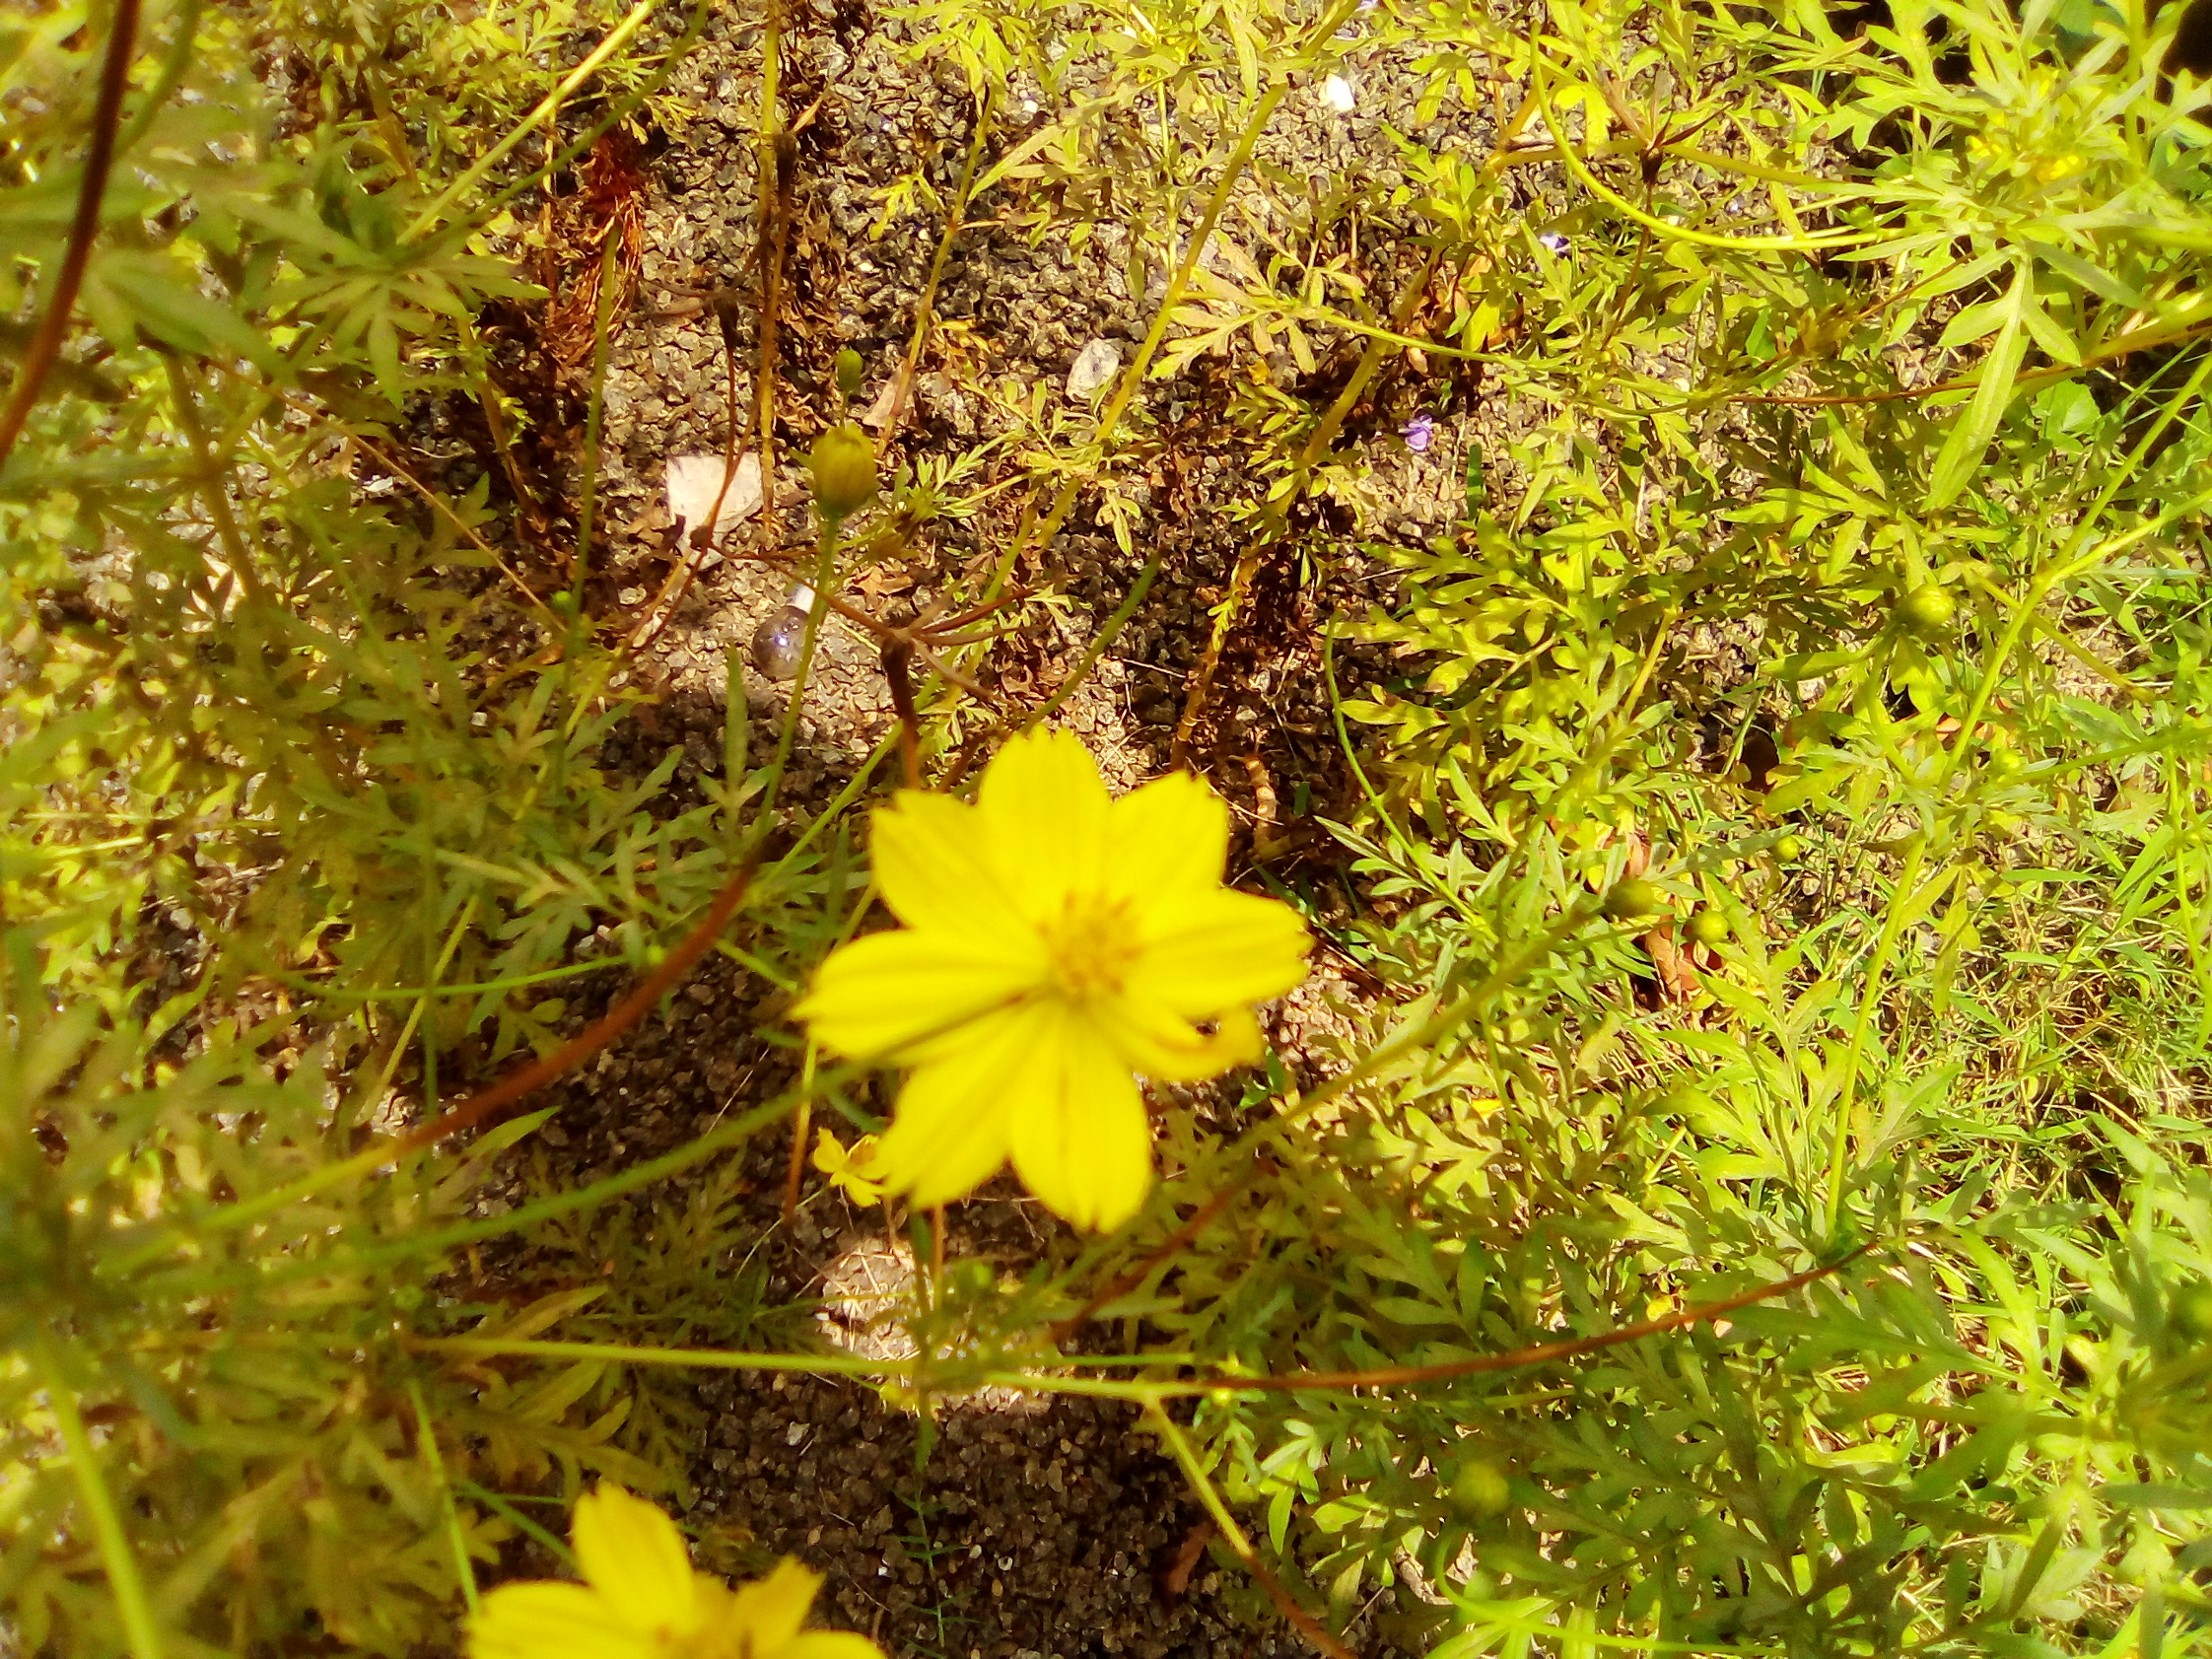kahamala: (766, 714, 1343, 1284), (467, 1478, 888, 1659)
